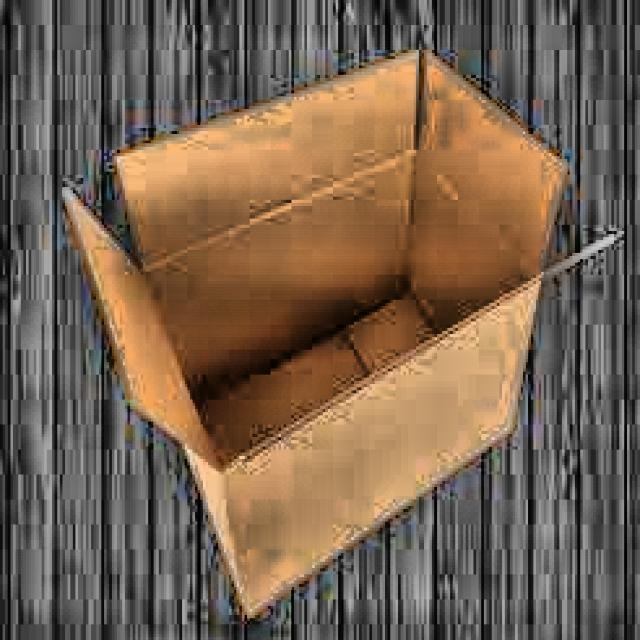Cardbox: (53, 37, 627, 614)
